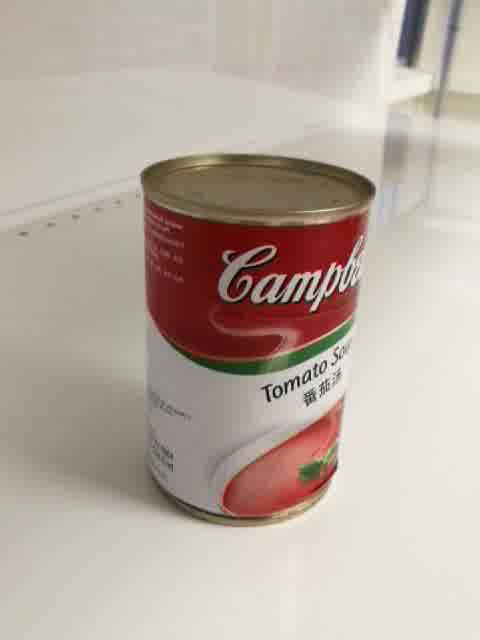tomatosoup: (134, 148, 379, 529)
